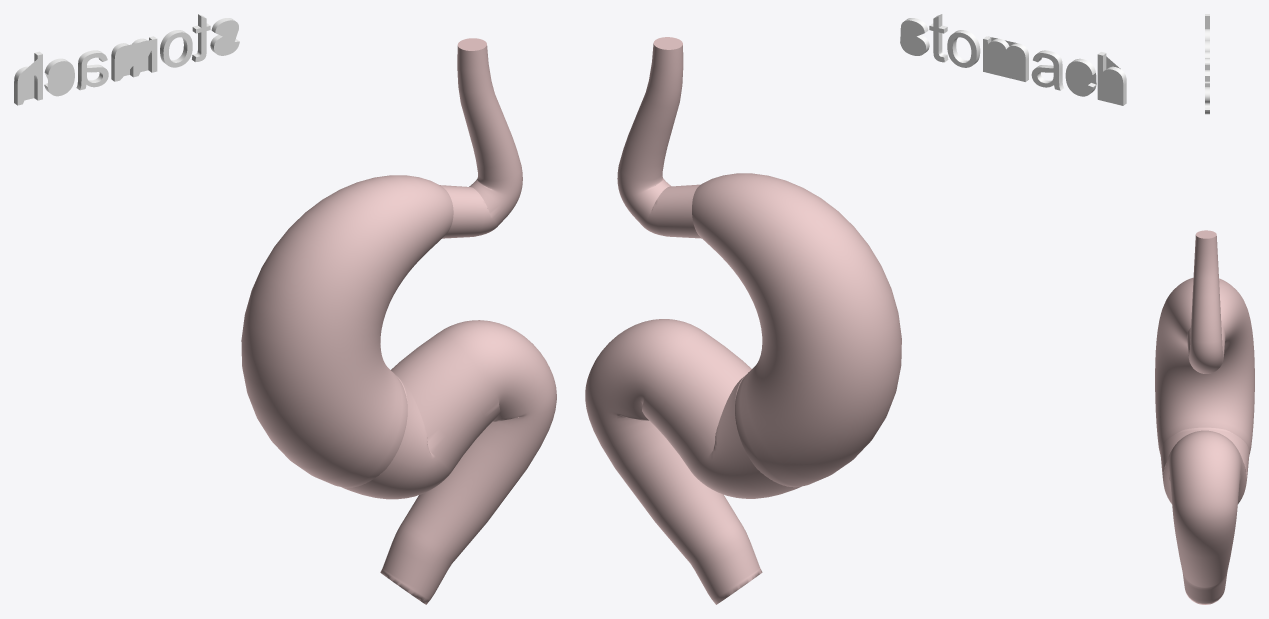
Rendered from stomach.obj.
The picture shows the model from 3 angles, left to right: view 1: azimuth 30°, elevation 25°; view 2: azimuth 150°, elevation 25°; view 3: azimuth 270°, elevation 25°; orthographic projection. The views are drawn at different scales.
Visible parts, largest first — view 1: ???, ??_3, ??_1, ??; view 2: ???, ??_3, ??_2, ??; view 3: ???, ??_3, ??.
Part boxes in pixels (<box>): ???: <box>241,175,556,604</box>; ??_3: <box>440,45,522,238</box>; ??_1: <box>17,16,239,105</box>; ??: <box>14,14,239,105</box>; ???: <box>585,173,901,604</box>; ??_3: <box>617,43,701,238</box>; ??_2: <box>900,16,1123,105</box>; ??: <box>905,14,1126,105</box>; ???: <box>1155,277,1254,604</box>; ??_3: <box>1187,235,1225,373</box>; ??: <box>1205,14,1209,114</box>.
Size of the model in its own units: 1765 by 2023 by 401.
